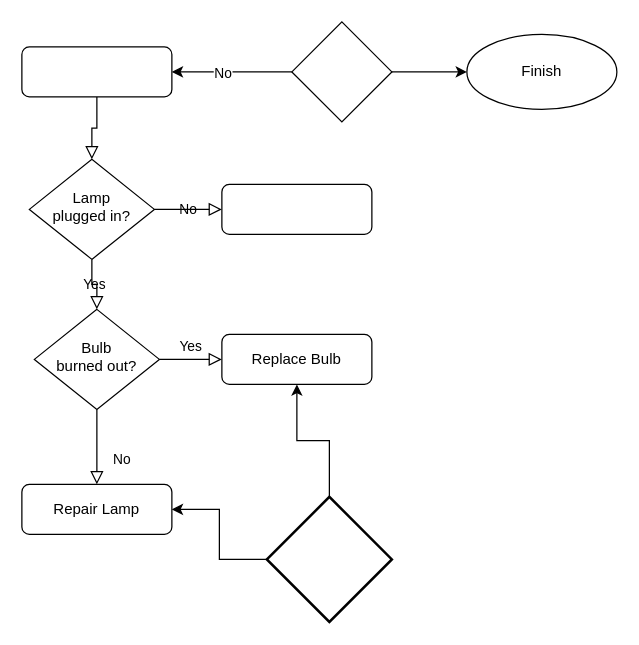
The diagram is 639 pixels wide and 645 high, and some of its shapes have lost their labels. Here are the shapes that lost their labels. From the top down, the centre of each, then its label:
pixel 96 71: Lamp doesn't work
pixel 341 71: Is Lamp working
pixel 296 208: Plug in lamp
